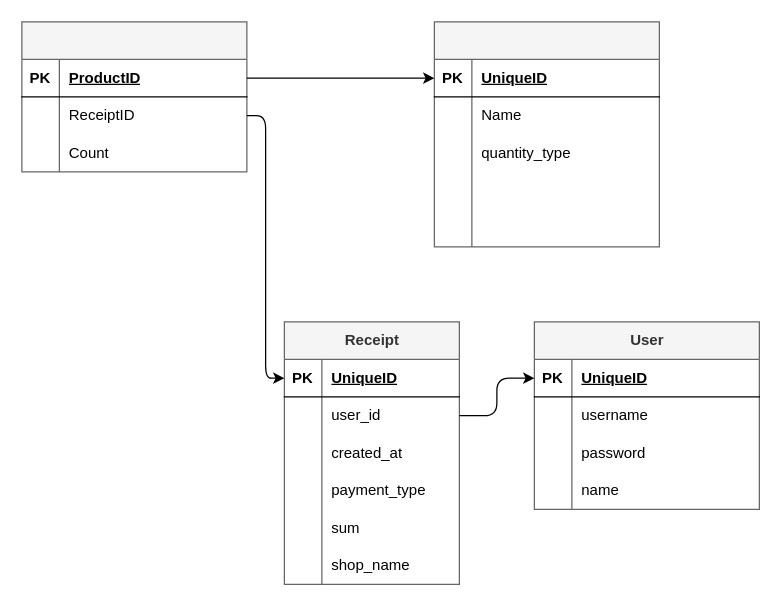
This 781x606 diagram has some shape labels left out. The shapes that lost their labels are listed below. From the top down, each one's box as (x1, y1, x2, y2) in pixels, then its label:
(21, 21, 247, 172): ProductToReceipt
(433, 21, 659, 247): Product
